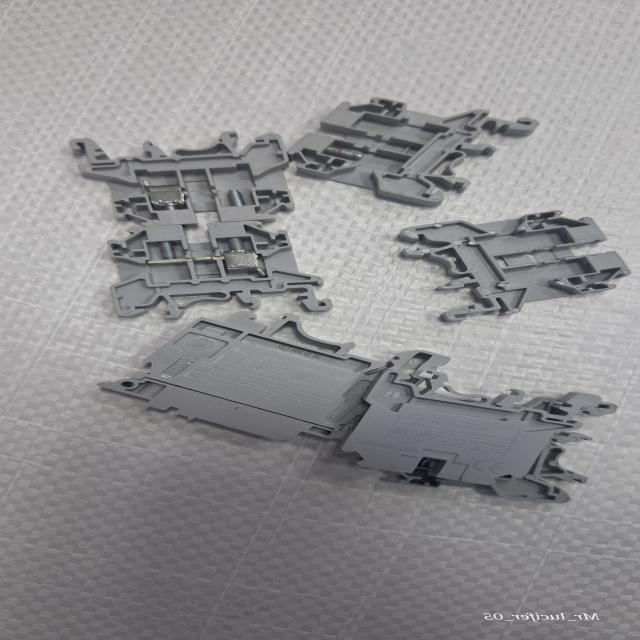Reject: (283, 92, 560, 208), (388, 206, 633, 327), (86, 212, 330, 323), (58, 119, 306, 228)
